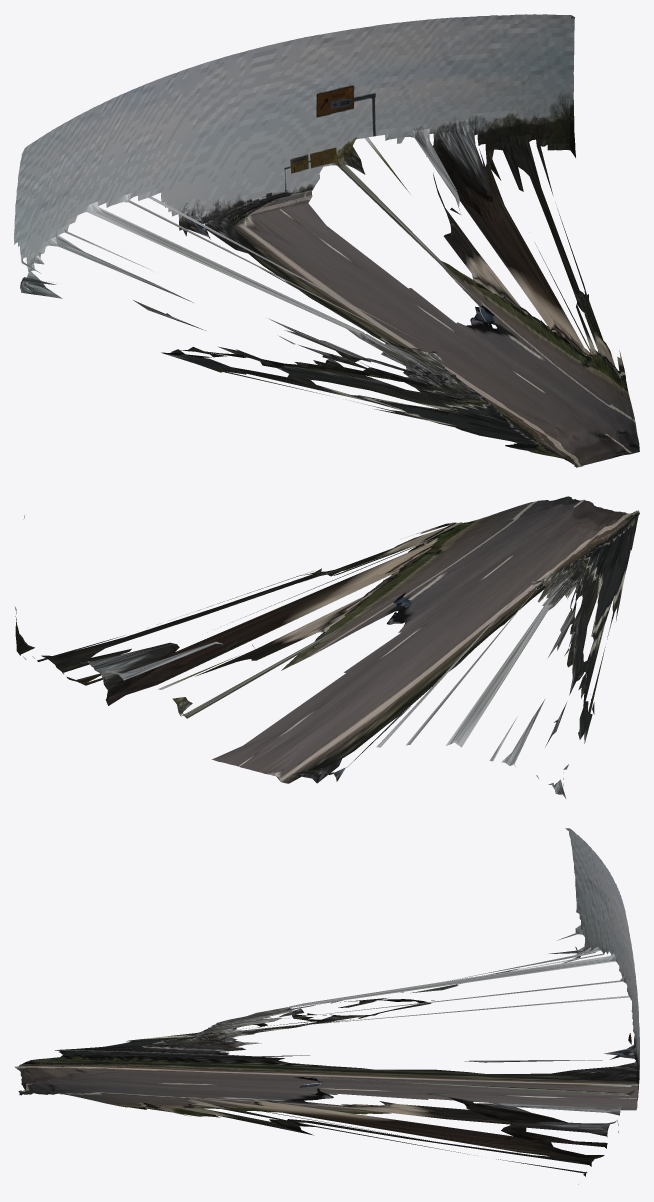
The picture shows the model from 3 angles, top to bottom: view 1: azimuth 30°, elevation 25°; view 2: azimuth 150°, elevation 25°; view 3: azimuth 270°, elevation 25°; orthographic projection. The views are drawn at different scales.
Visible parts, largest first — view 1: defaultobject; view 2: defaultobject; view 3: defaultobject.
Boxes of the visible parts, box(x1,y1,x2,y2) form: defaultobject: box(14, 14, 639, 467); defaultobject: box(14, 496, 639, 798); defaultobject: box(14, 828, 639, 1184).
Size of the model in its own units: 41.08 by 12.53 by 44.82.
1 material, 1 textured.
